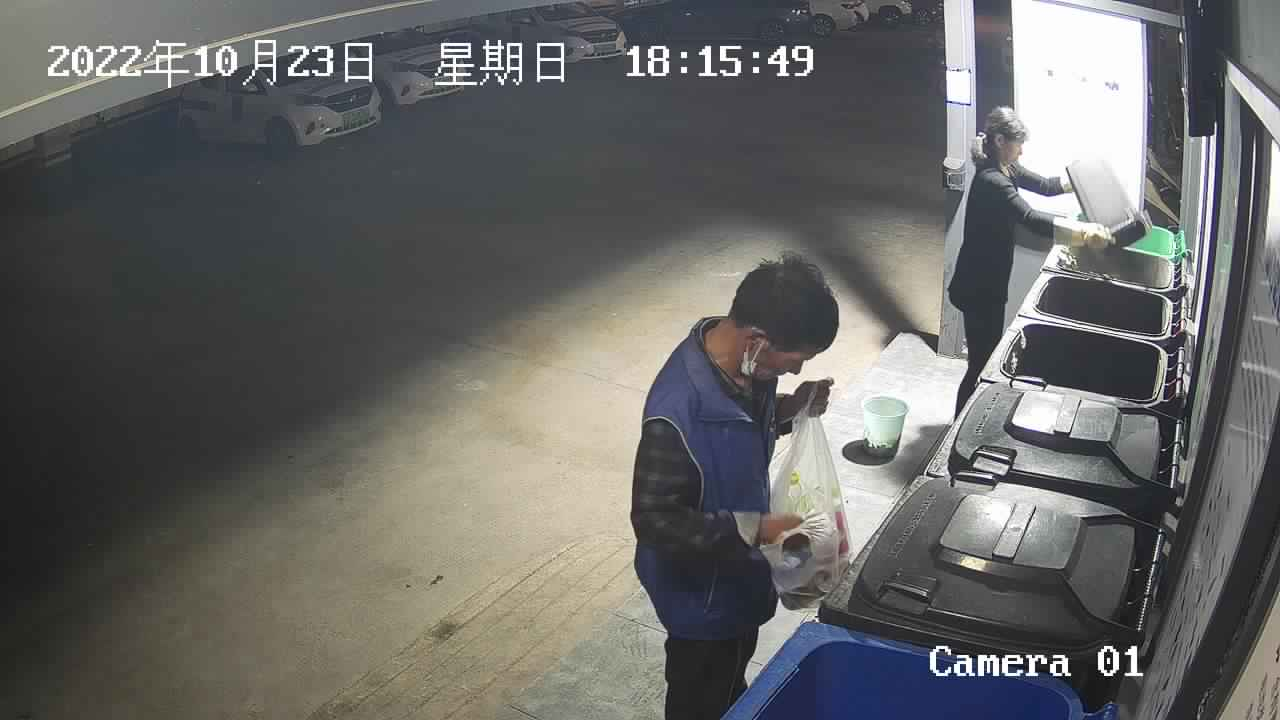person: (944, 102, 1115, 426)
suliaozhipin: (757, 376, 854, 612)
worker: (624, 248, 840, 720)
youtong: (859, 392, 910, 463)
